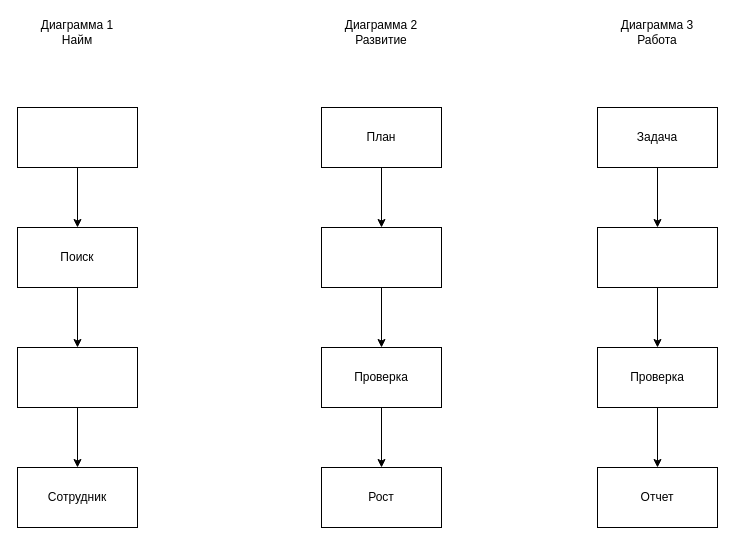
This 735x545 diagram has some shape labels left out. Each missing label, with the centre of its shape:
"Заявка" belongs at (77,137).
"Обучение" belongs at (381,257).
"Отбор" belongs at (77,377).
"Работа" belongs at (657,257).
